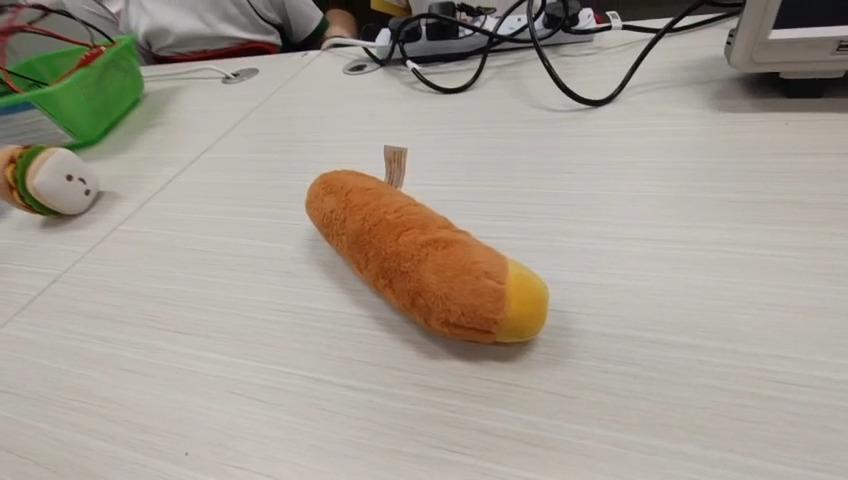hotdog: (304, 164, 549, 345)
